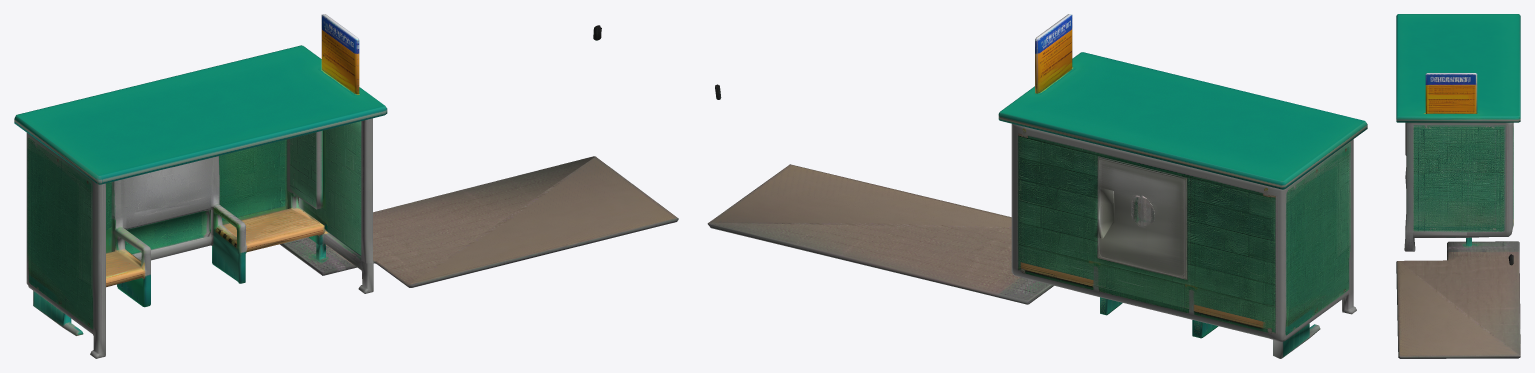
The model's file is BusStop.glb.
The picture shows the model from 3 angles, left to right: view 1: azimuth 30°, elevation 25°; view 2: azimuth 150°, elevation 25°; view 3: azimuth 270°, elevation 25°; orthographic projection. The views are drawn at different scales.
Visible parts, largest first — view 1: mesh_node; view 2: mesh_node; view 3: mesh_node.
Boxes of the visible parts, x1=… form: mesh_node: x1=14, y1=14, x2=678, y2=358; mesh_node: x1=707, y1=14, x2=1367, y2=358; mesh_node: x1=1396, y1=14, x2=1520, y2=358.
Bounding box in the file's own units: 1.91 × 0.7593 × 0.4814.
Materials: 1 (1 with a texture image).
